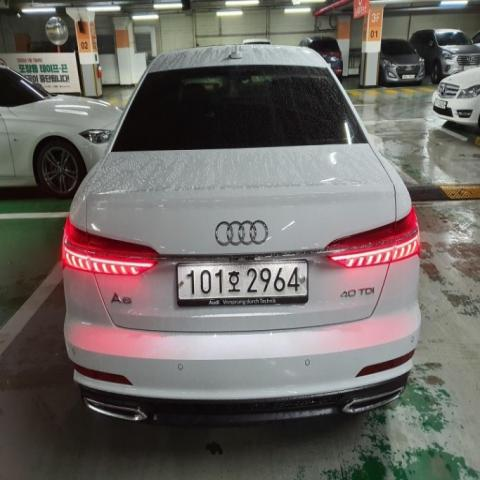LP: (172, 254, 311, 309)
